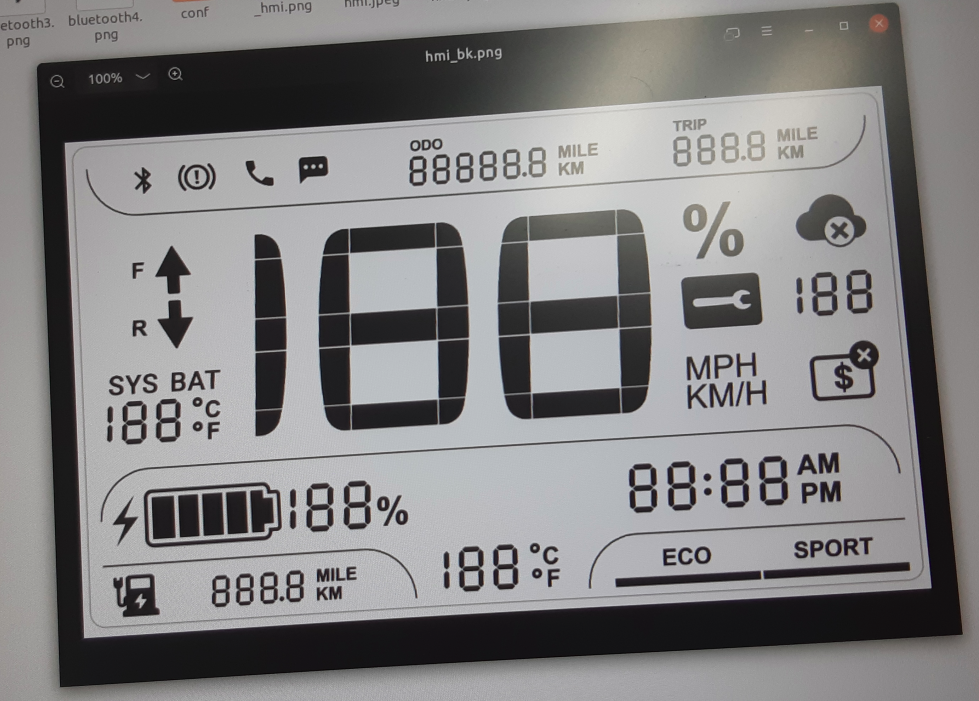bluetooth_on: (129, 162, 156, 196)
braking_on: (175, 160, 219, 194)
calling_on: (242, 157, 280, 188)
connection_lost: (794, 192, 870, 249)
error_code: (676, 269, 768, 333)
low_battery: (110, 570, 165, 620)
sms_on: (296, 152, 330, 186)
vin_id: (806, 338, 884, 402)
